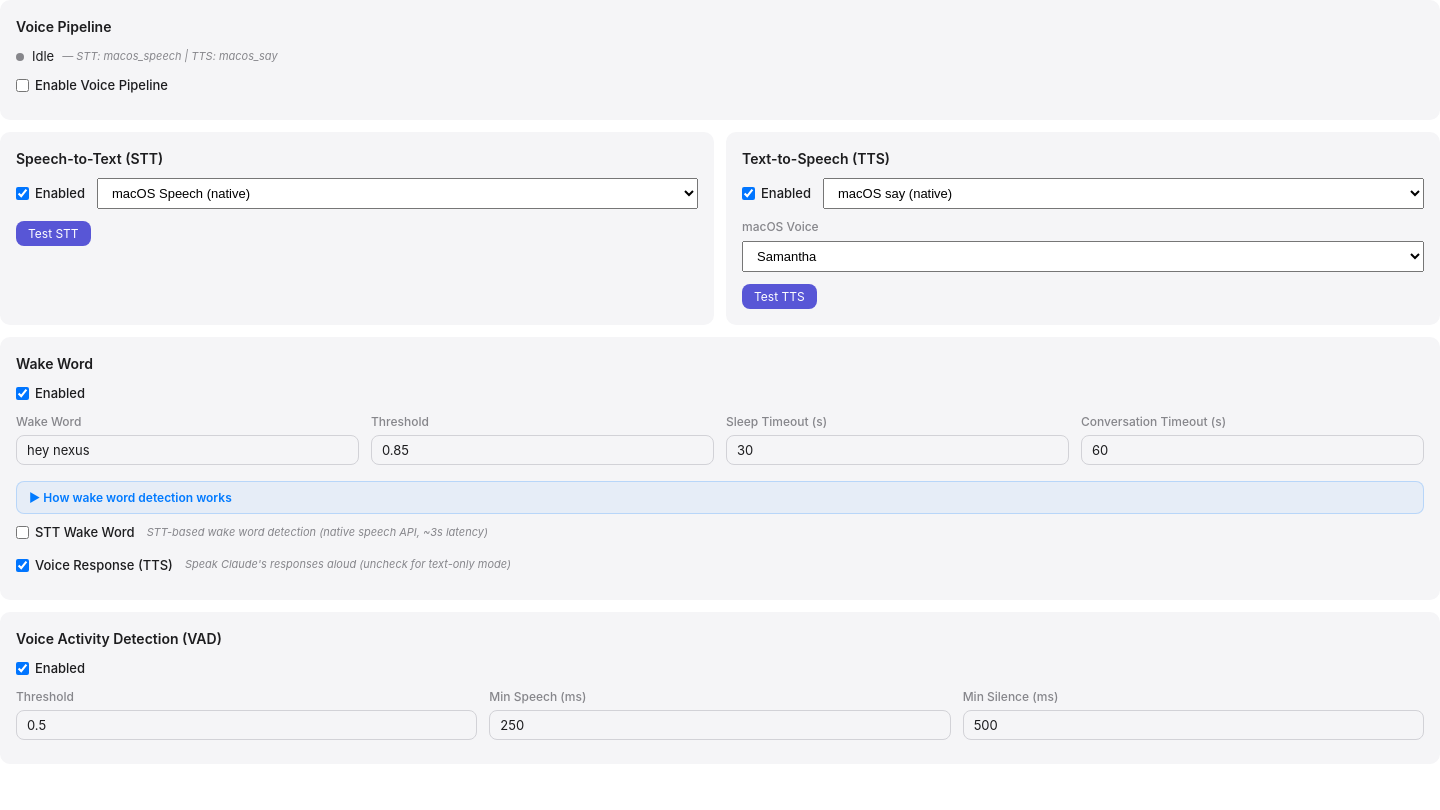
VoiceTab › STT settings › shows (no speech detected) when STT returns empty string
What coordinates should you click on to do the following:
click the button "Test STT"
I would click on:
 (53, 234)
Its box is [16,221,91,246].
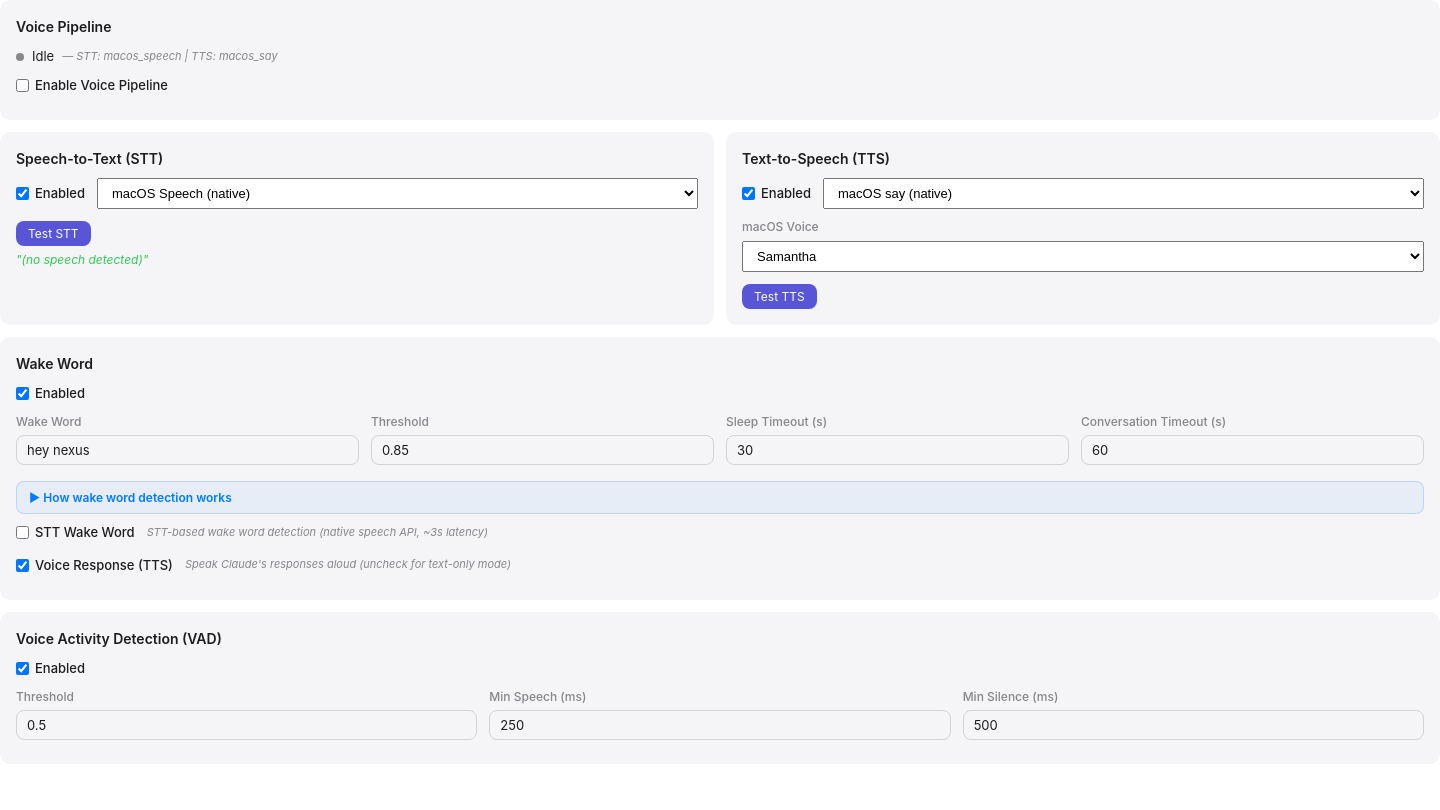
Now the text "\"(no speech detected)\"" is shown, box [16,252,148,267]
